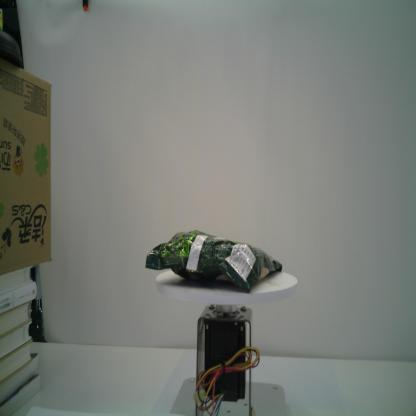Instant Noodles: (145, 229, 282, 293)
